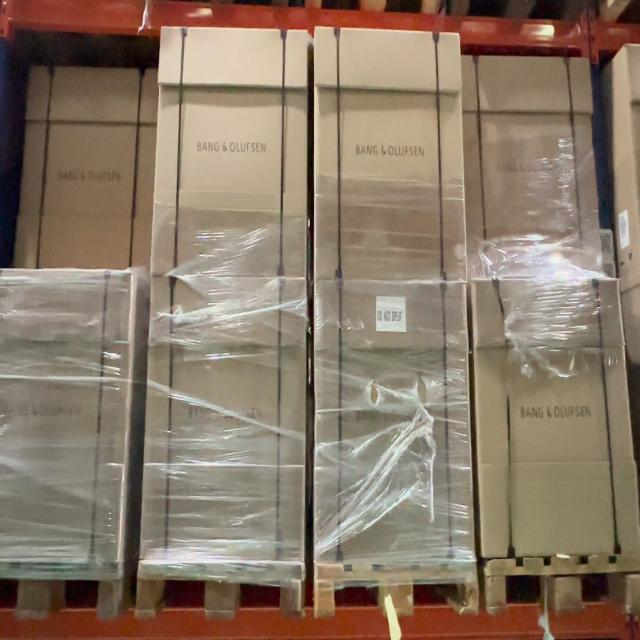box: (138, 273, 308, 561), (471, 277, 640, 559), (312, 277, 473, 562), (149, 26, 312, 278), (312, 26, 466, 281), (462, 56, 603, 281), (14, 68, 158, 270)
